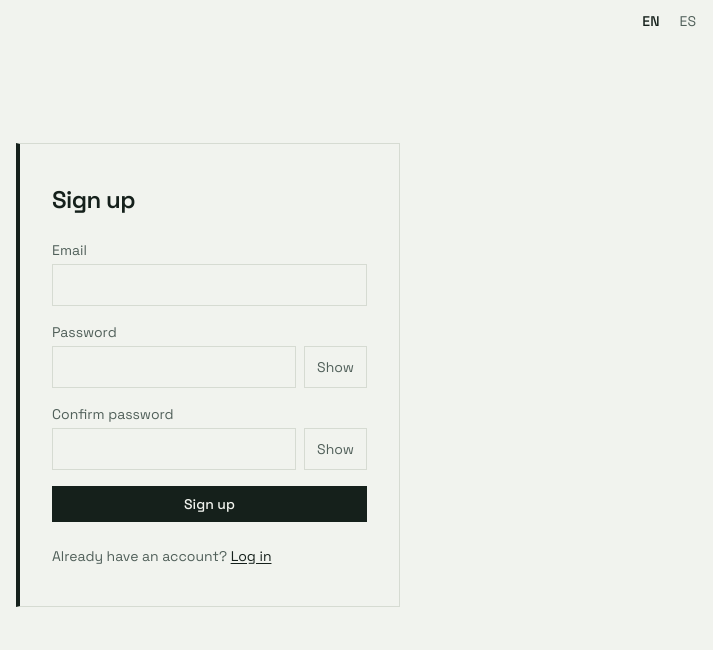
Scenario: SignUpPage › shows an error and doesn't submit when the passwords don't match
This screenshot has width=713, height=650.
Type "someone@example.com" into the field labelled "Email" at {"x": 210, "y": 285}, box [52,264,367,306]
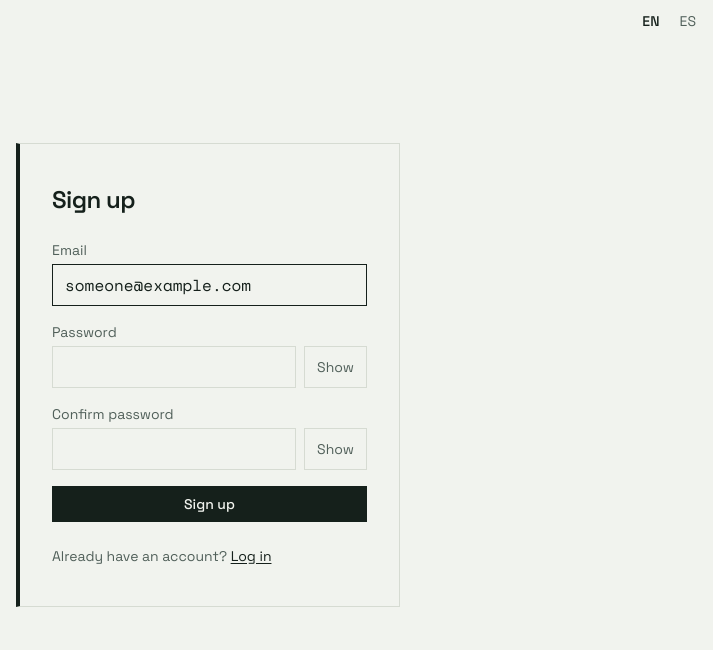
Type "password123" into the password field labelled "Password" at {"x": 174, "y": 367}, box [52,346,296,388]
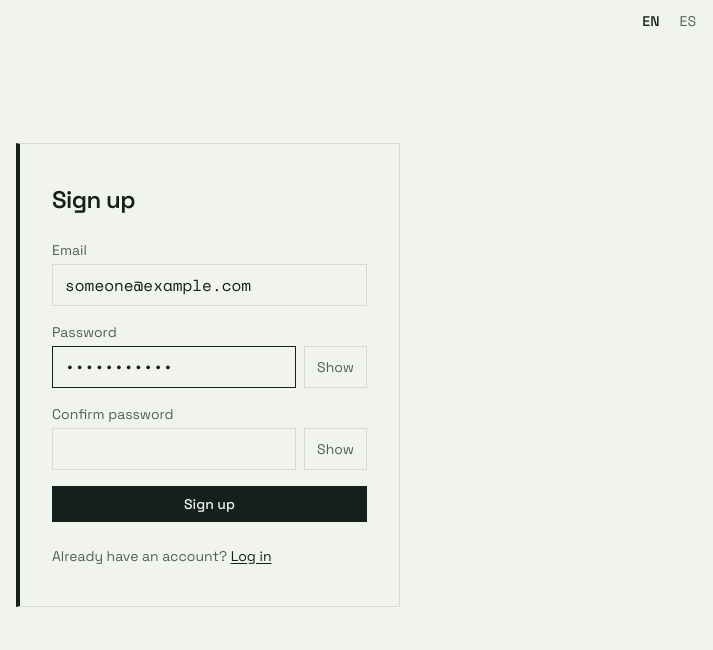
Type "somethingelse" into the password field labelled "Confirm password" at {"x": 174, "y": 449}, box [52,428,296,470]
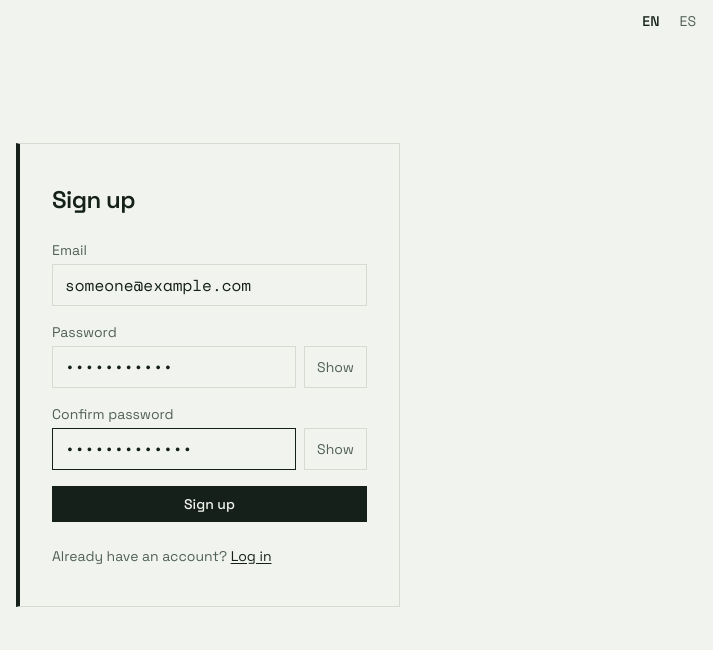
Click the button "Sign up" at {"x": 210, "y": 504}, box [52,486,367,522]
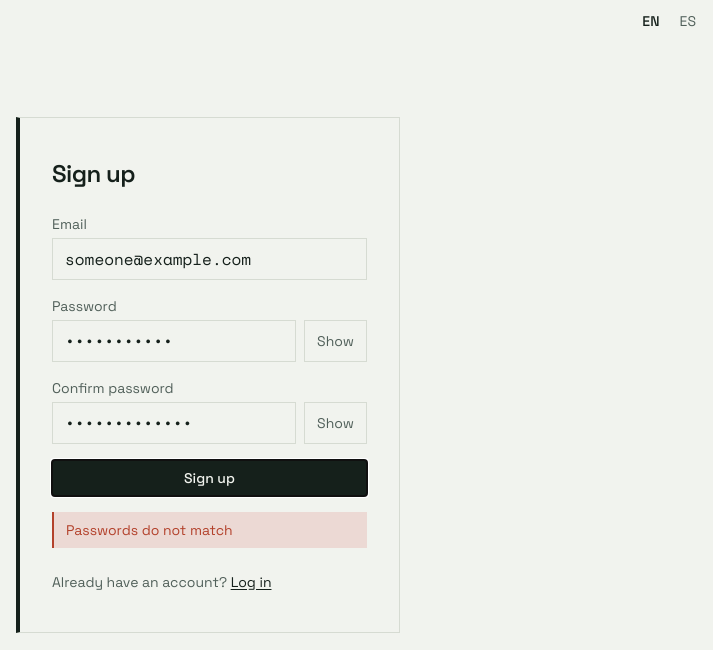
Check: the message reads "Passwords do not match", box [66,521,233,539]
